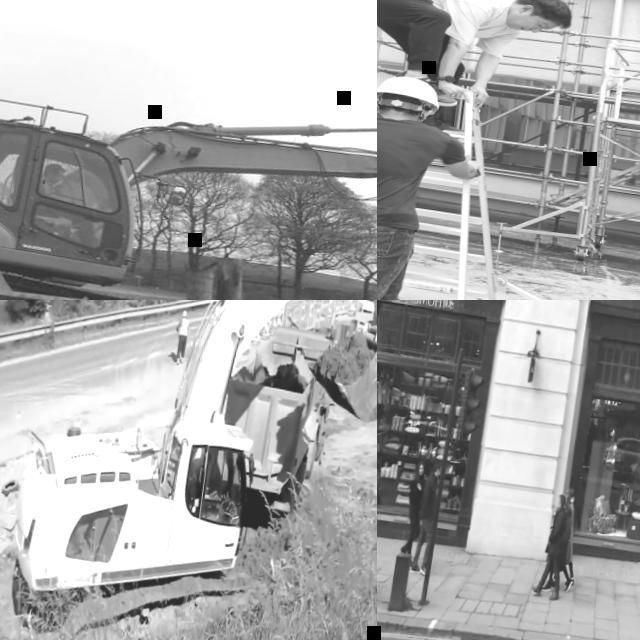Hardhat: (377, 70, 443, 110), (182, 311, 186, 317)
NO-Hardhat: (526, 0, 575, 30), (45, 162, 66, 174), (564, 485, 574, 498), (557, 492, 565, 503), (434, 462, 442, 471), (417, 460, 425, 468), (563, 495, 569, 505)
NO-Mask: (507, 11, 532, 33), (555, 499, 560, 510), (434, 471, 439, 477), (417, 472, 422, 476)
NO-Safety Vest: (377, 103, 450, 224), (377, 0, 513, 37), (549, 511, 567, 561), (563, 501, 578, 551), (558, 511, 572, 556)
Person: (377, 64, 495, 300), (377, 0, 577, 121), (31, 160, 108, 249), (528, 492, 572, 603), (540, 494, 583, 596), (408, 459, 445, 577), (549, 483, 587, 593), (397, 457, 430, 567), (191, 454, 226, 517), (171, 310, 191, 366)
Safety Vest: (178, 318, 189, 338)
machinery: (0, 300, 377, 640), (0, 10, 377, 300), (207, 317, 341, 535)
vehicle: (359, 300, 377, 327)
